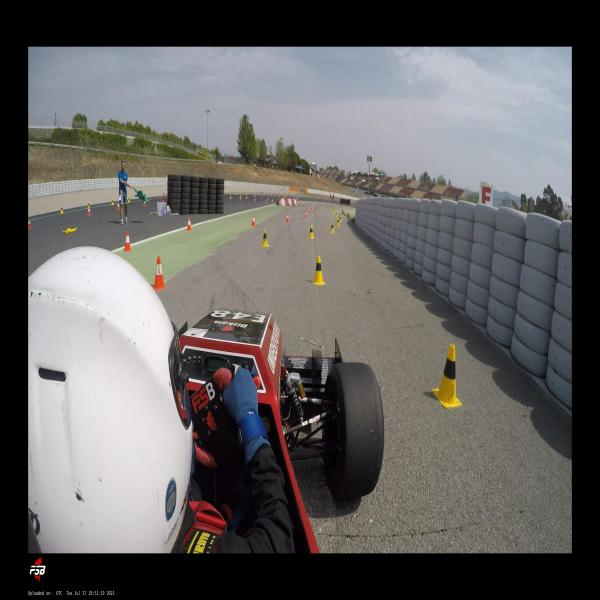orange_cone: (152, 256, 167, 291), (123, 232, 132, 251), (187, 217, 192, 231), (251, 216, 256, 226), (28, 218, 32, 229), (88, 207, 91, 216), (117, 203, 120, 210), (286, 214, 288, 222), (304, 211, 306, 218), (143, 202, 146, 206), (254, 198, 256, 202), (309, 208, 310, 213), (240, 197, 241, 201)
yellow_cone: (432, 343, 462, 408), (312, 255, 326, 285), (261, 228, 269, 246), (308, 225, 314, 238), (330, 222, 334, 233), (60, 206, 63, 214), (87, 202, 90, 209), (111, 199, 114, 205), (127, 197, 130, 203), (337, 218, 339, 226), (339, 216, 341, 222), (333, 210, 334, 214), (336, 212, 337, 216)
